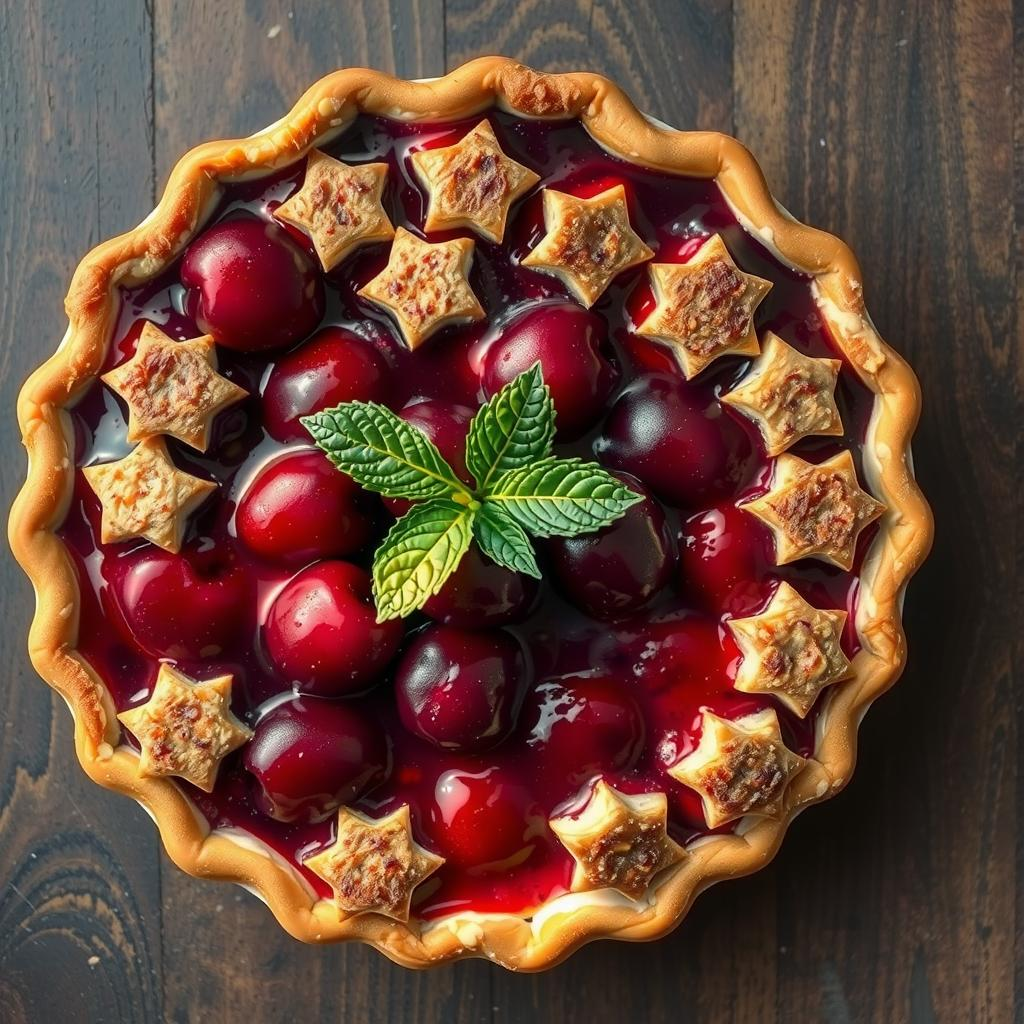pie: (3, 50, 943, 990)
